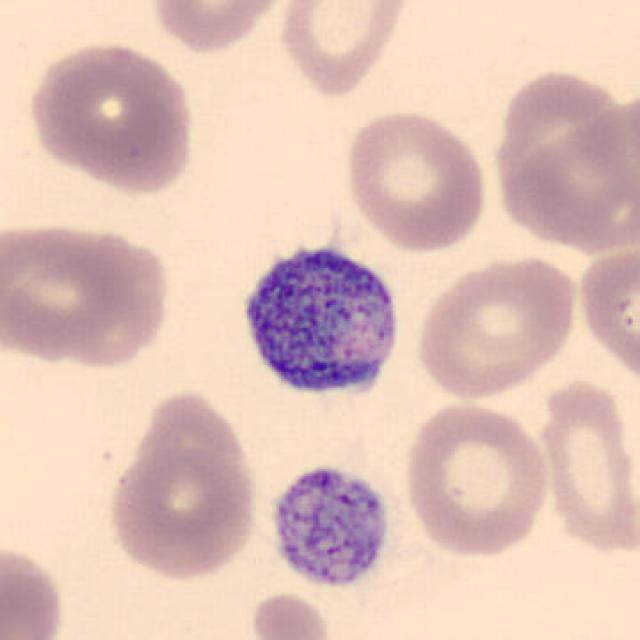Platelets: (232, 230, 414, 410), (261, 458, 395, 596)
RBC: (103, 403, 260, 582), (23, 37, 199, 194), (411, 250, 581, 402), (0, 217, 169, 367), (491, 86, 638, 256), (400, 398, 553, 560), (340, 106, 490, 254), (530, 374, 638, 559), (273, 0, 412, 100), (574, 240, 640, 391), (146, 0, 293, 55), (0, 537, 69, 640), (247, 590, 336, 640)
